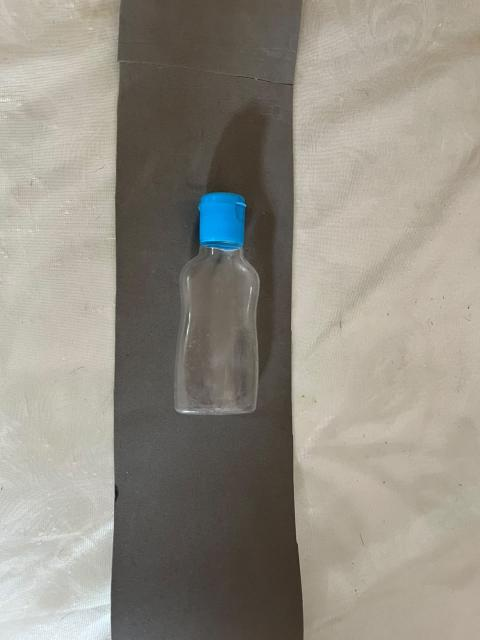PET: (152, 165, 280, 440)
